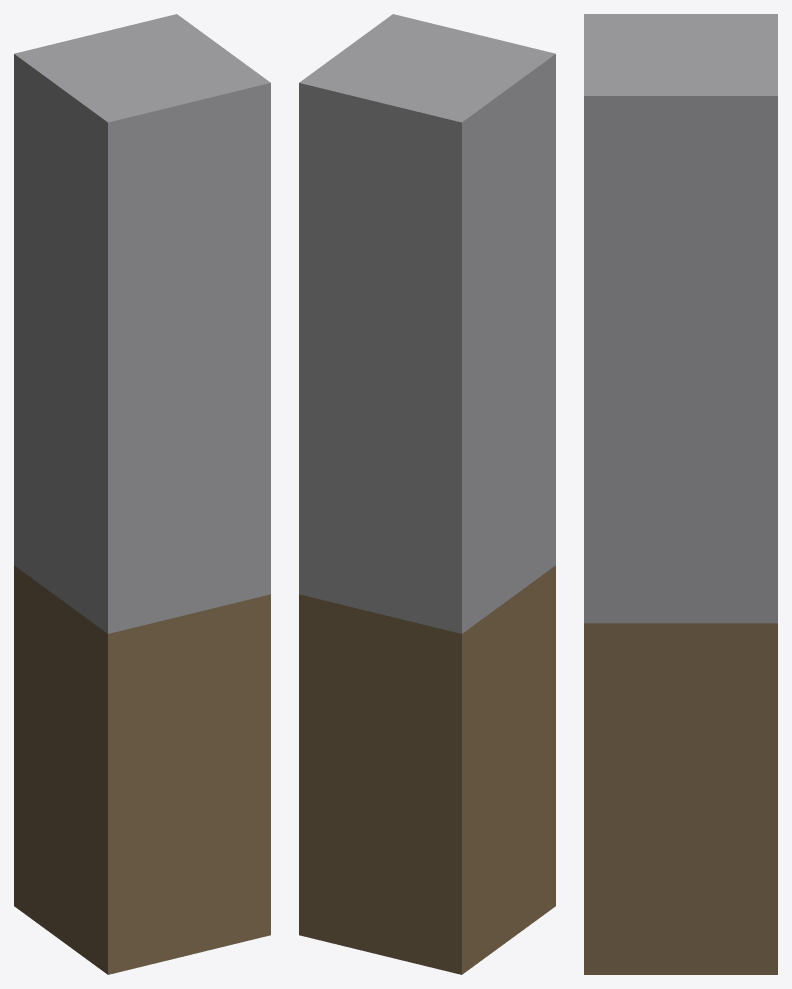
The model's file is punzon_talabarteria_01.glb.
The picture shows the model from 3 angles, left to right: view 1: azimuth 30°, elevation 25°; view 2: azimuth 150°, elevation 25°; view 3: azimuth 270°, elevation 25°; orthographic projection. The views are drawn at different scales.
Visible parts, largest first — view 1: punzon_talabarteria; view 2: punzon_talabarteria; view 3: punzon_talabarteria.
Part boxes in pixels (<box>): punzon_talabarteria: <box>14,14,270,974</box>; punzon_talabarteria: <box>299,14,555,974</box>; punzon_talabarteria: <box>584,14,777,974</box>.
Size of the model in its own units: 0.0833 by 0.4167 by 0.0833.
